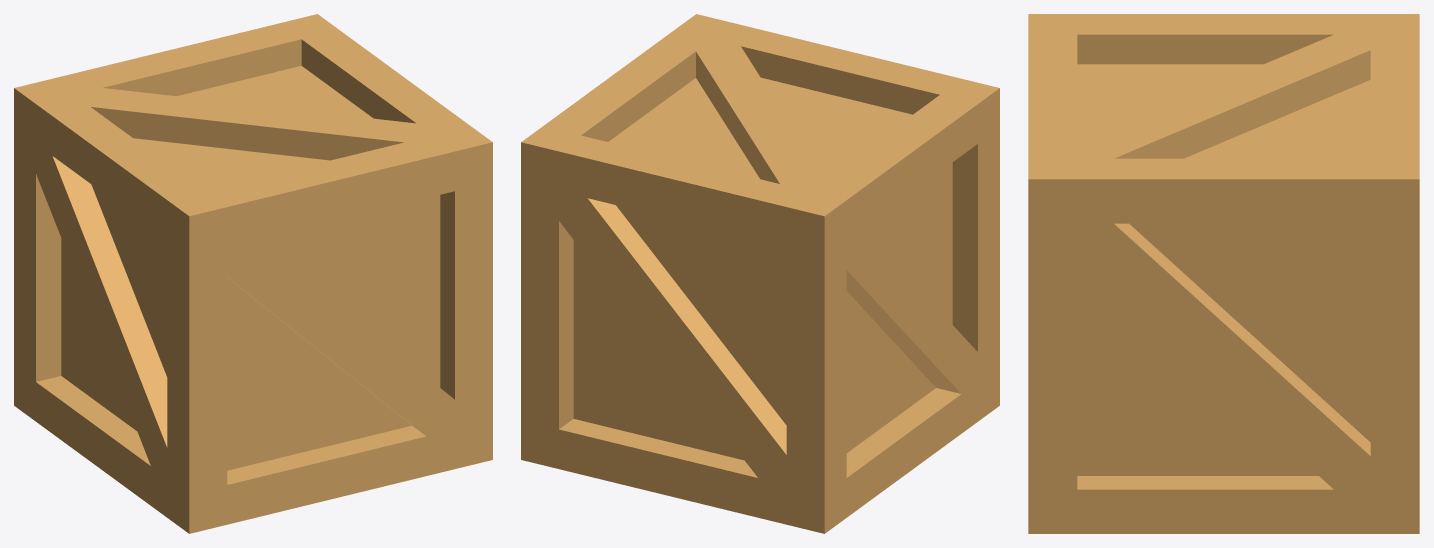
3 views of the same model, side by side, from view 1: azimuth 30°, elevation 25°; view 2: azimuth 150°, elevation 25°; view 3: azimuth 270°, elevation 25° (orthographic). The views are drawn at different scales.
Visible parts, largest first — view 1: box; view 2: box; view 3: box.
Part boxes in pixels (x1,y1,x2,y2): box: [14, 14, 492, 533]; box: [521, 14, 999, 533]; box: [1028, 14, 1419, 533].
Size of what is drawn, in the model's own units: 1.2 by 1.2 by 1.2.
